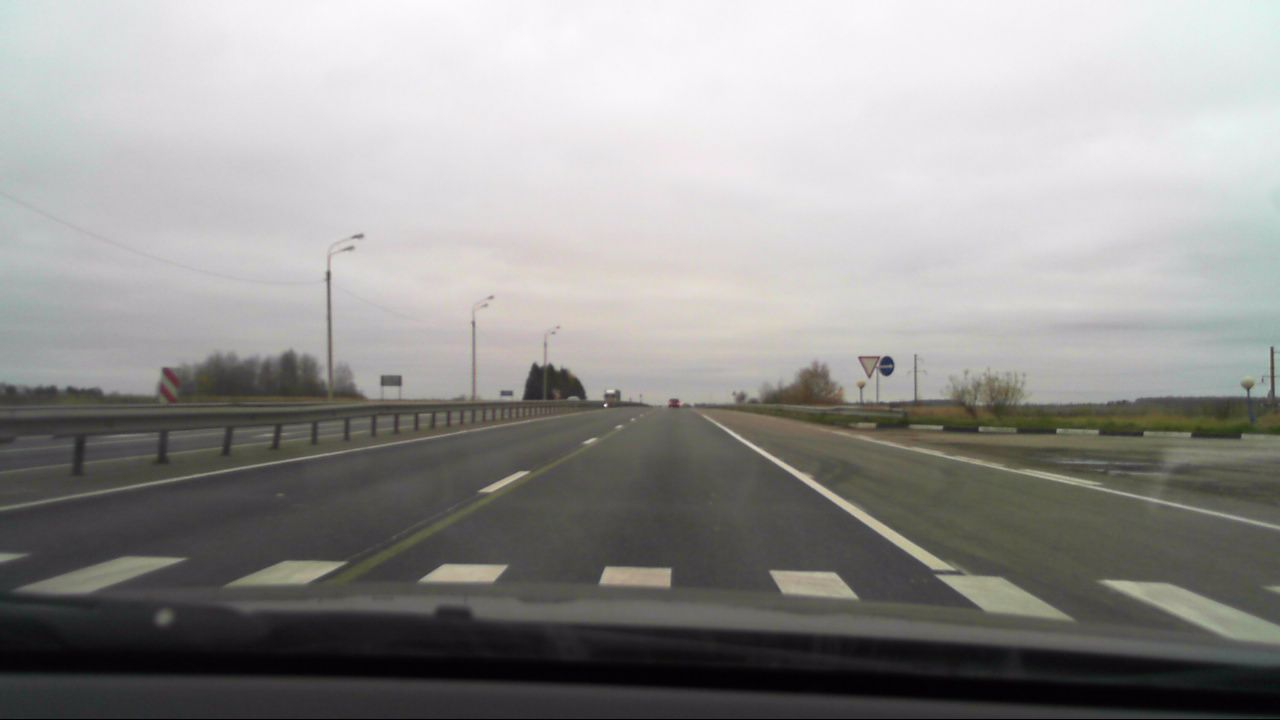Turn Right: (880, 356, 894, 375)
